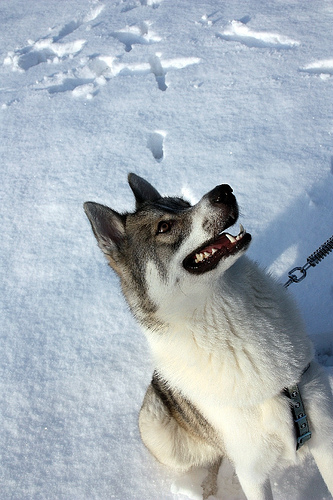dog: (85, 174, 331, 498)
